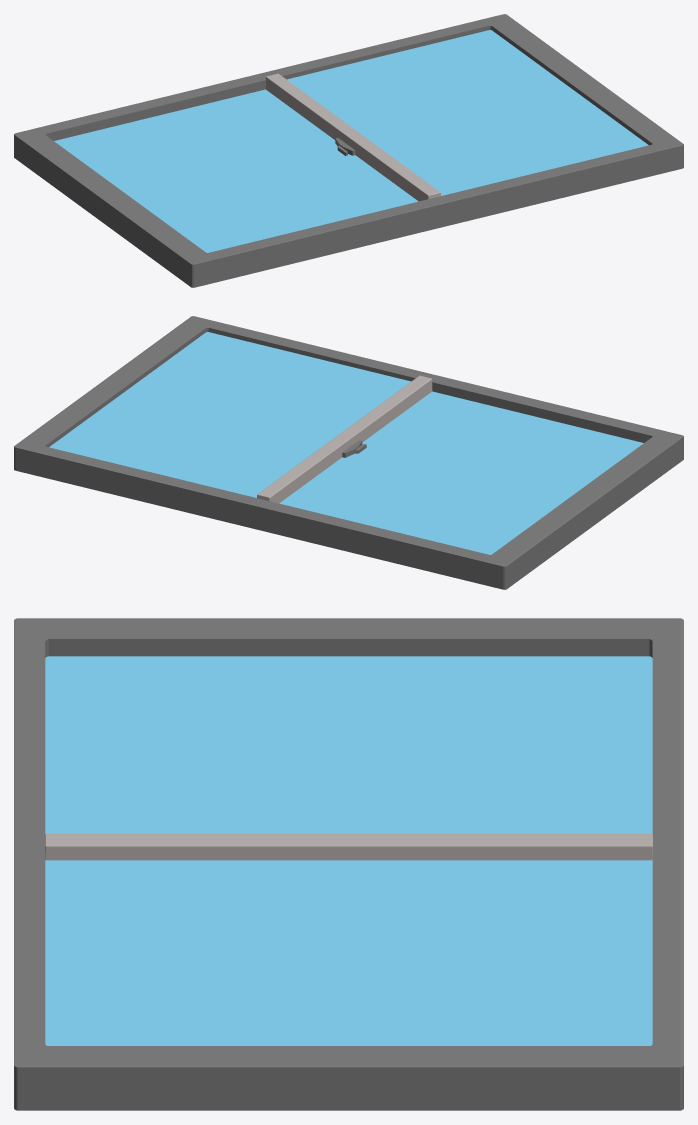
Rendered from Window.fbx.
The picture shows the model from 3 angles, top to bottom: view 1: azimuth 30°, elevation 25°; view 2: azimuth 150°, elevation 25°; view 3: azimuth 270°, elevation 25°; orthographic projection. The views are drawn at different scales.
Visible parts, largest first — view 1: Cube; view 2: Cube; view 3: Cube.
Boxes of the visible parts, bbox=[...] form: Cube: bbox=[14, 14, 683, 287]; Cube: bbox=[14, 316, 683, 589]; Cube: bbox=[14, 618, 683, 1110].
Size of the model in its own units: 14.76 by 0.7808 by 9.31.
